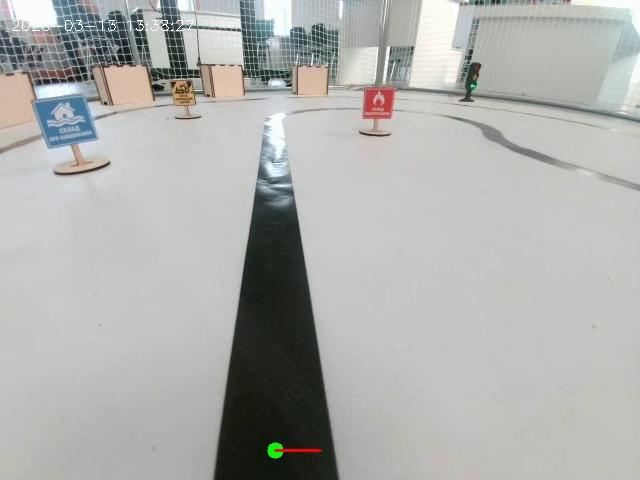fire: (352, 75, 403, 153)
flood: (32, 86, 102, 192)
industrial: (172, 75, 201, 129)
